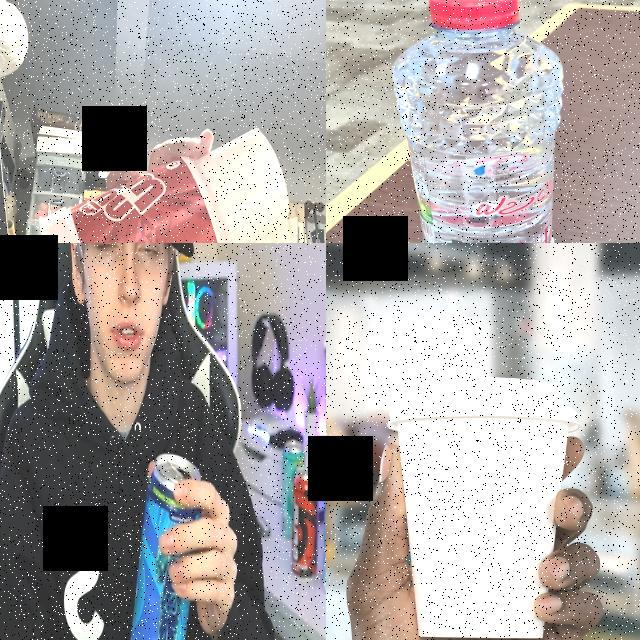bottle: (403, 0, 563, 243)
can: (127, 453, 204, 640), (291, 468, 320, 578), (280, 437, 306, 542)
cup: (386, 376, 580, 640), (39, 128, 291, 243)
